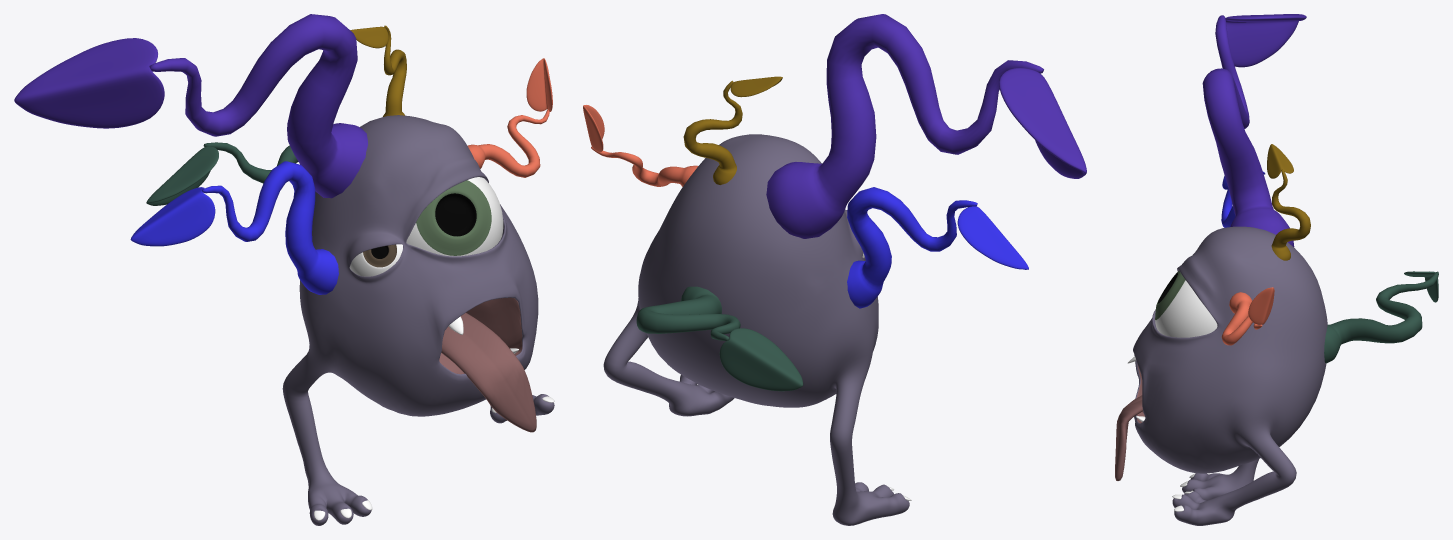
Rendered from Bean_Monster_Instancing3.glb.
3 views of the same model, side by side, from view 1: azimuth 30°, elevation 25°; view 2: azimuth 150°, elevation 25°; view 3: azimuth 270°, elevation 25° (orthographic). The views are drawn at different scales.
Visible parts, largest first — view 1: Instance Child on Parent; view 2: Instance Child on Parent; view 3: Instance Child on Parent.
Part boxes in pixels (bbox=[...]): Instance Child on Parent: bbox=[14, 14, 554, 525]; Instance Child on Parent: bbox=[583, 14, 1086, 525]; Instance Child on Parent: bbox=[1115, 14, 1438, 525].
Size of the model in its own units: 75.27 by 69.8 by 48.87.
